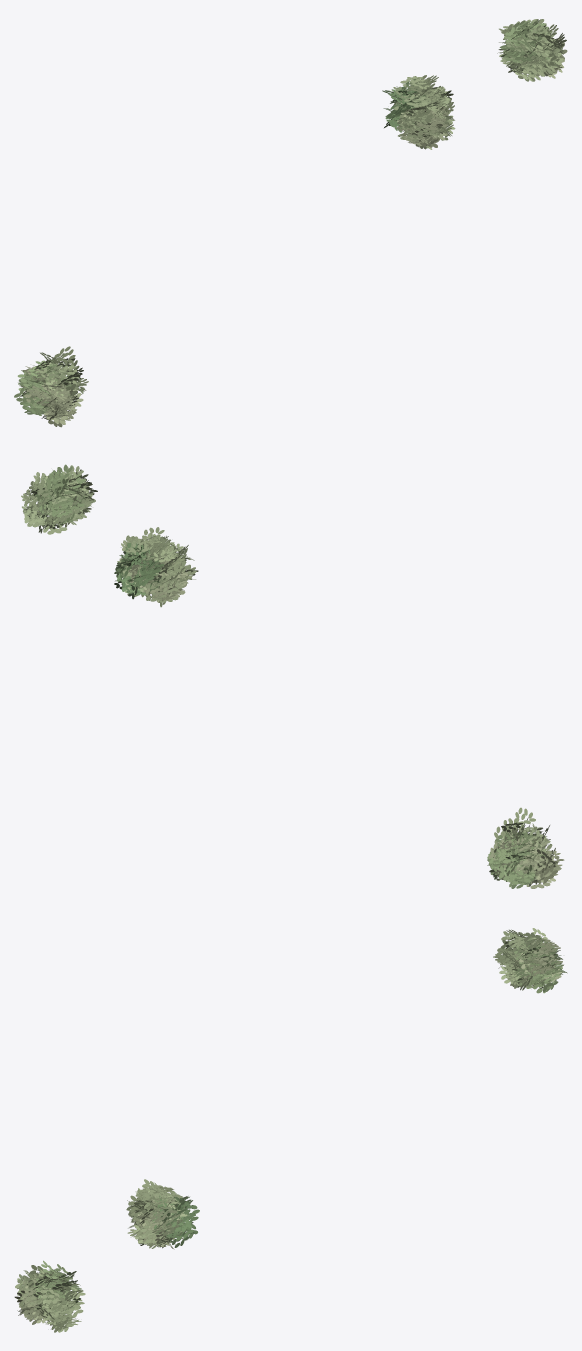
The model's file is campus-tree-1_-2-middle.glb.
3 renders of one model, top to bottom at view 1: azimuth 90°, elevation 25°; view 2: azimuth 150°, elevation 25°; view 3: azimuth 270°, elevation 25°, orthographic. The views are drawn at different scales.
Parts seen in each view (by area): view 1: Campus leaf canopy; view 2: Campus leaf canopy; view 3: Campus leaf canopy.
Boxes of the visible parts, x1,y1,x2,y2 form: Campus leaf canopy: [14, 19, 567, 427]; Campus leaf canopy: [21, 464, 564, 888]; Campus leaf canopy: [14, 928, 567, 1332].
Size of the model in its own units: 56.83 by 5.78 by 35.92.
1 material, 1 textured.
